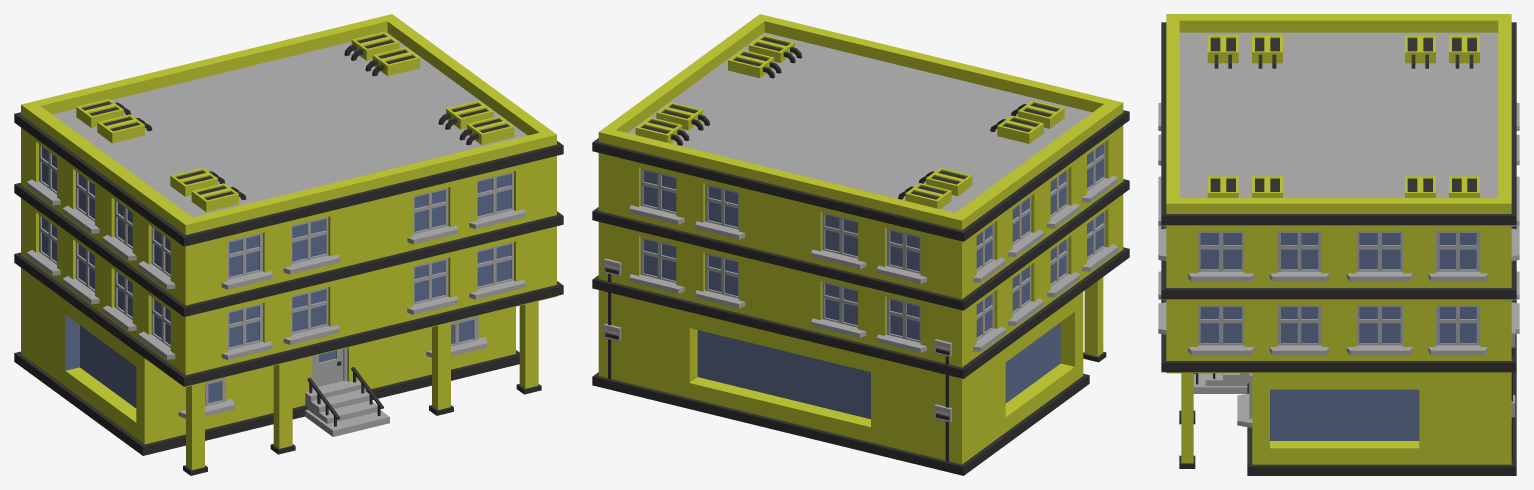
Rendered from Building3_3.fbx.
3 views of the same model, side by side, from view 1: azimuth 30°, elevation 25°; view 2: azimuth 150°, elevation 25°; view 3: azimuth 270°, elevation 25° (orthographic). The views are drawn at different scales.
Visible parts, largest first — view 1: Building3_3; view 2: Building3_3; view 3: Building3_3.
Part boxes in pixels (x1=…): Building3_3: x1=14, y1=14, x2=563, y2=475; Building3_3: x1=592, y1=14, x2=1129, y2=475; Building3_3: x1=1158, y1=14, x2=1519, y2=475.
Bounding box in the file's own units: 852 × 546 × 663.
